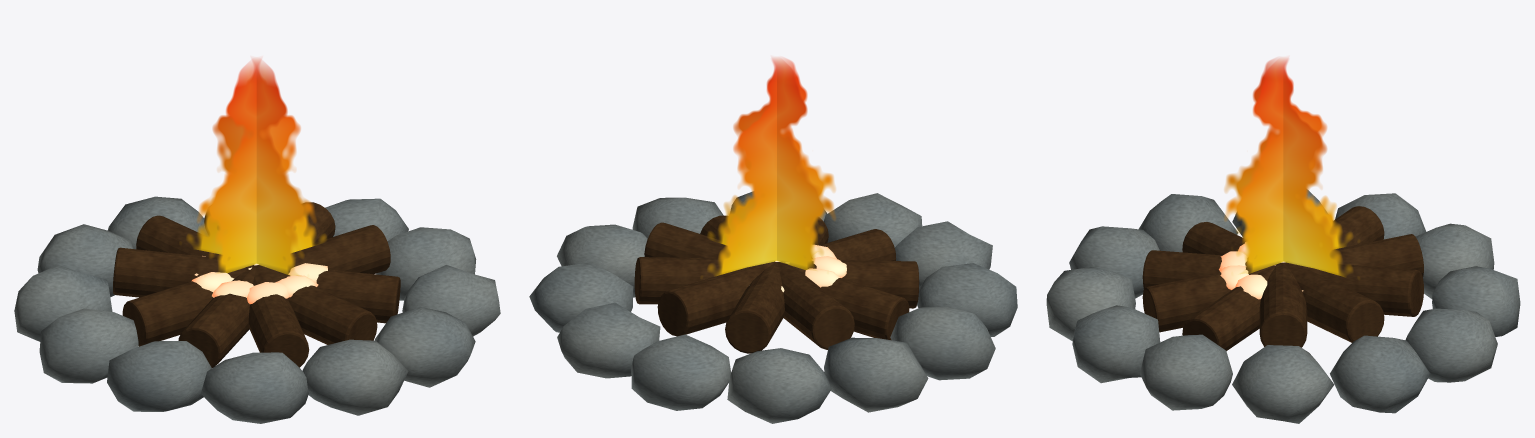
Rendered from campfire.glb.
3 renders of one model, left to right at view 1: azimuth 30°, elevation 25°; view 2: azimuth 150°, elevation 25°; view 3: azimuth 270°, elevation 25°, orthographic.
Visible parts, largest first — view 1: Campfire_Mesh, Flame2, Flame0; view 2: Campfire_Mesh, Flame0, Flame1; view 3: Campfire_Mesh, Flame2, Flame1.
Boxes of the visible parts, <box> form: Campfire_Mesh: <box>14,196,500,423</box>; Flame2: <box>187,60,315,275</box>; Flame0: <box>197,60,326,273</box>; Campfire_Mesh: <box>529,191,1017,423</box>; Flame0: <box>708,59,835,270</box>; Flame1: <box>708,58,835,275</box>; Campfire_Mesh: <box>1046,189,1520,423</box>; Flame2: <box>1224,59,1352,273</box>; Flame1: <box>1224,58,1352,277</box>.
Bounding box in the file's own units: 2.37 × 1.5 × 2.29.
Materials: 2 (2 with a texture image).
